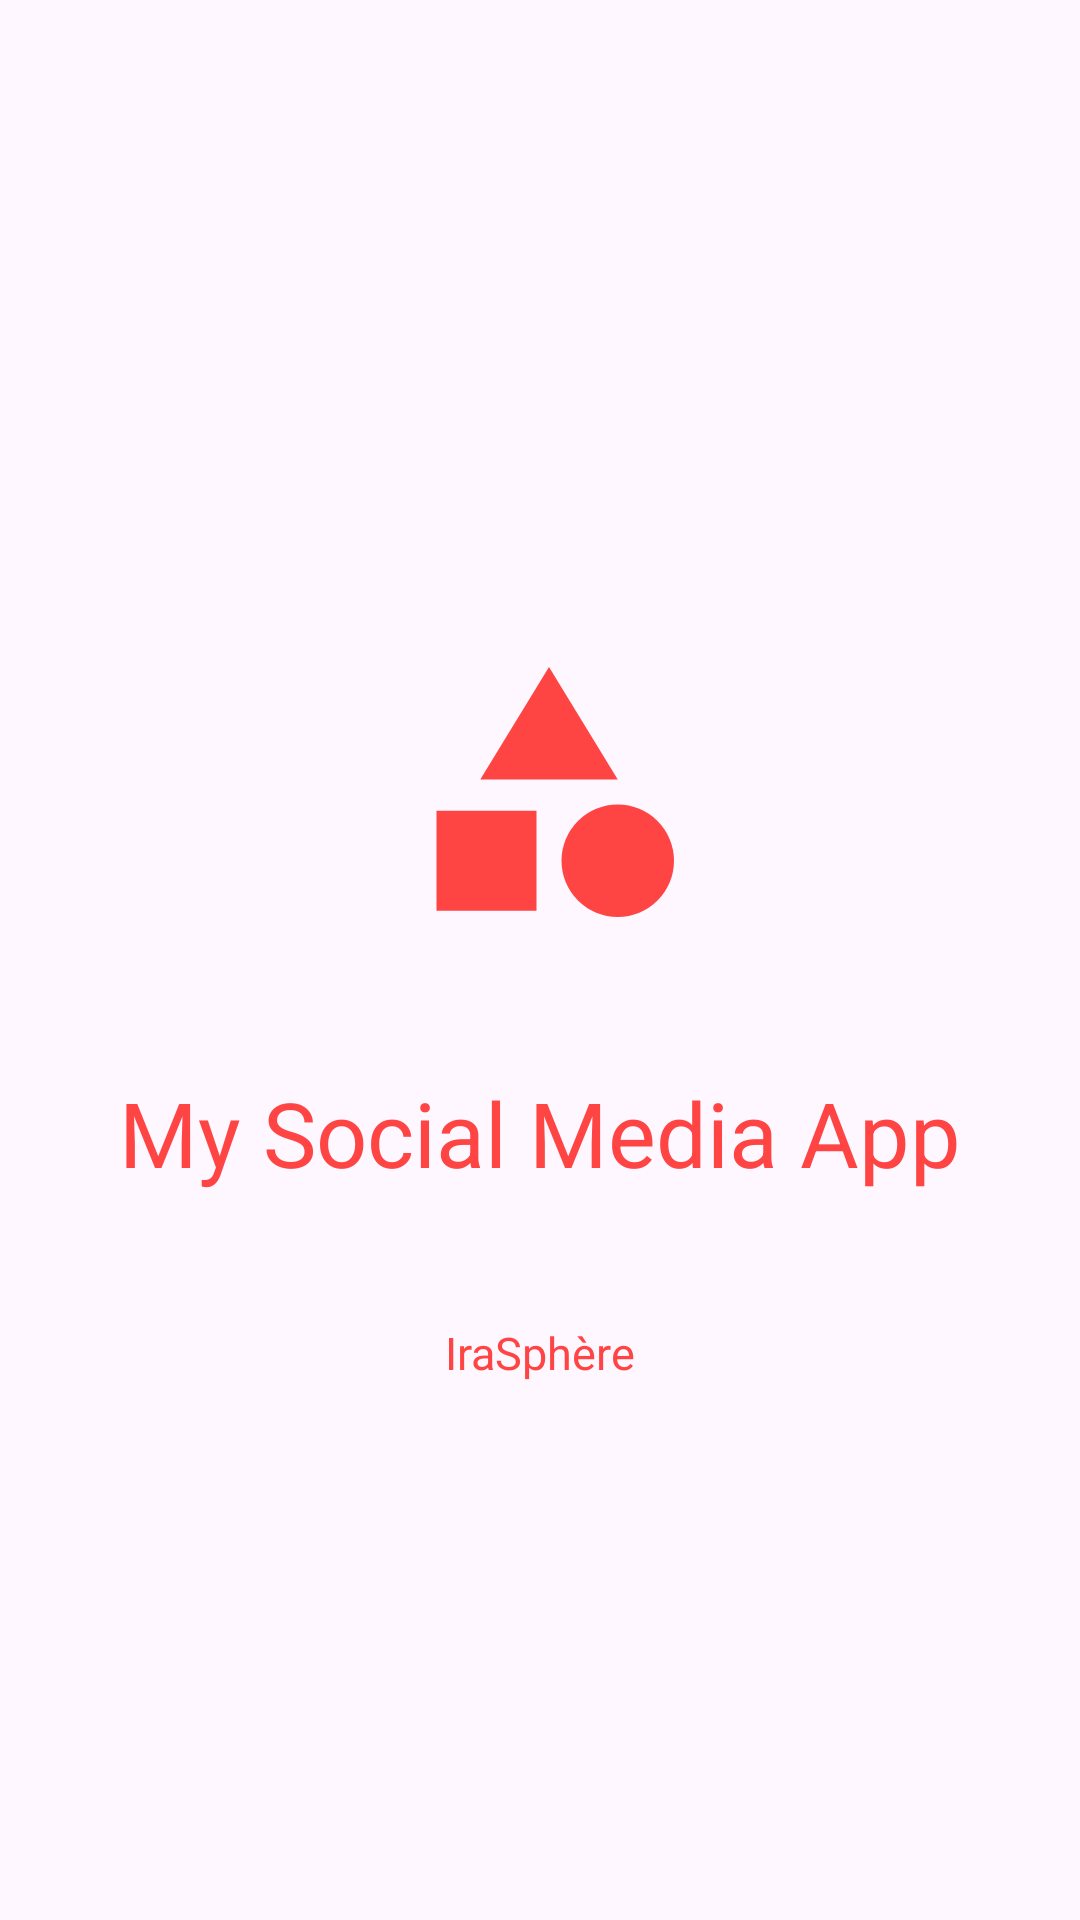

Screen size 1080×1920. Icon name, then its center in pixels as (x=x, y=y):
category: (x=555, y=792)
